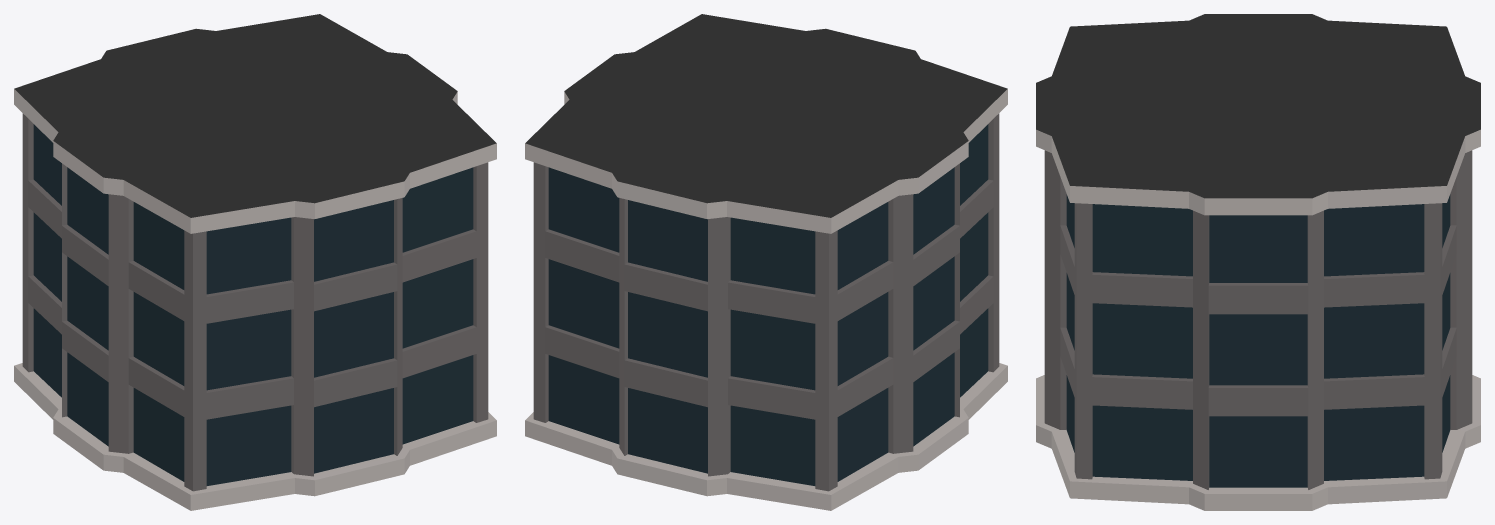
The model's file is skyscraper2-part-middle-small.glb.
3 views of the same model, side by side, from view 1: azimuth 30°, elevation 25°; view 2: azimuth 150°, elevation 25°; view 3: azimuth 270°, elevation 25° (orthographic). The views are drawn at different scales.
Visible parts, largest first — view 1: skyscraper2-part-middle-small; view 2: skyscraper2-part-middle-small; view 3: skyscraper2-part-middle-small.
Boxes of the visible parts, bbox=[...] form: skyscraper2-part-middle-small: bbox=[14, 14, 496, 510]; skyscraper2-part-middle-small: bbox=[525, 14, 1007, 510]; skyscraper2-part-middle-small: bbox=[1036, 14, 1480, 510].
Size of the model in its own units: 13.92 by 11 by 14.19.
1 material, 1 textured.
